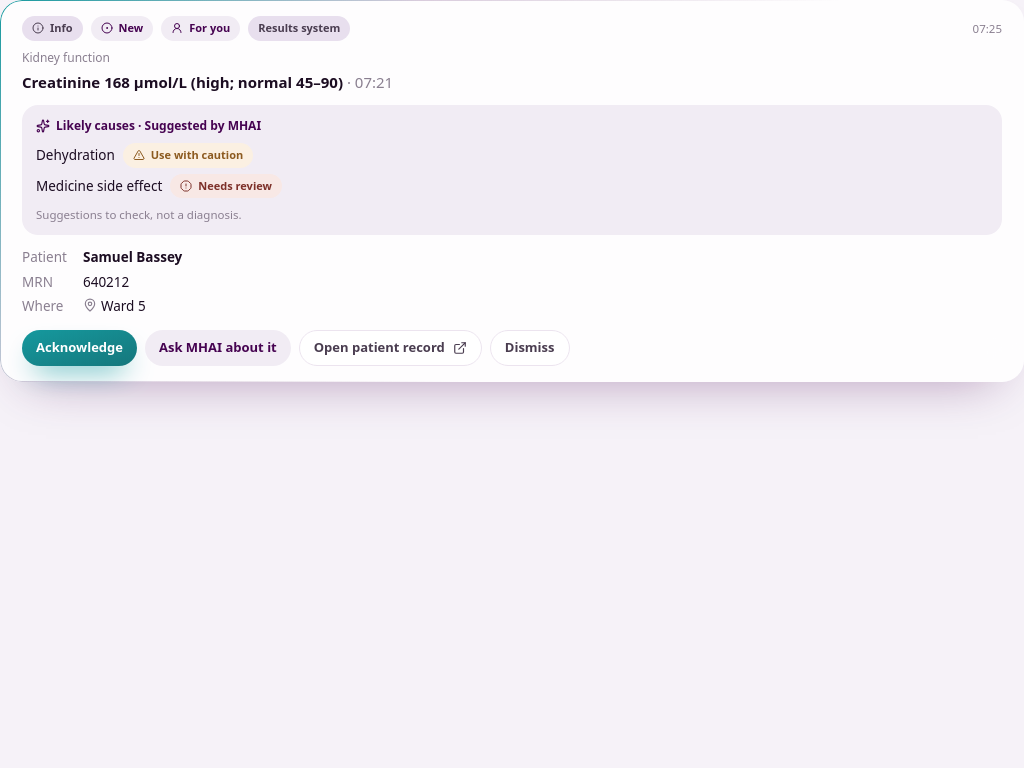
AlertCard › needs a reason to dismiss, then records it with the note
The width and height of the screenshot is (1024, 768).
Click the button "Dismiss" at (530,348), box [490,330,570,366]
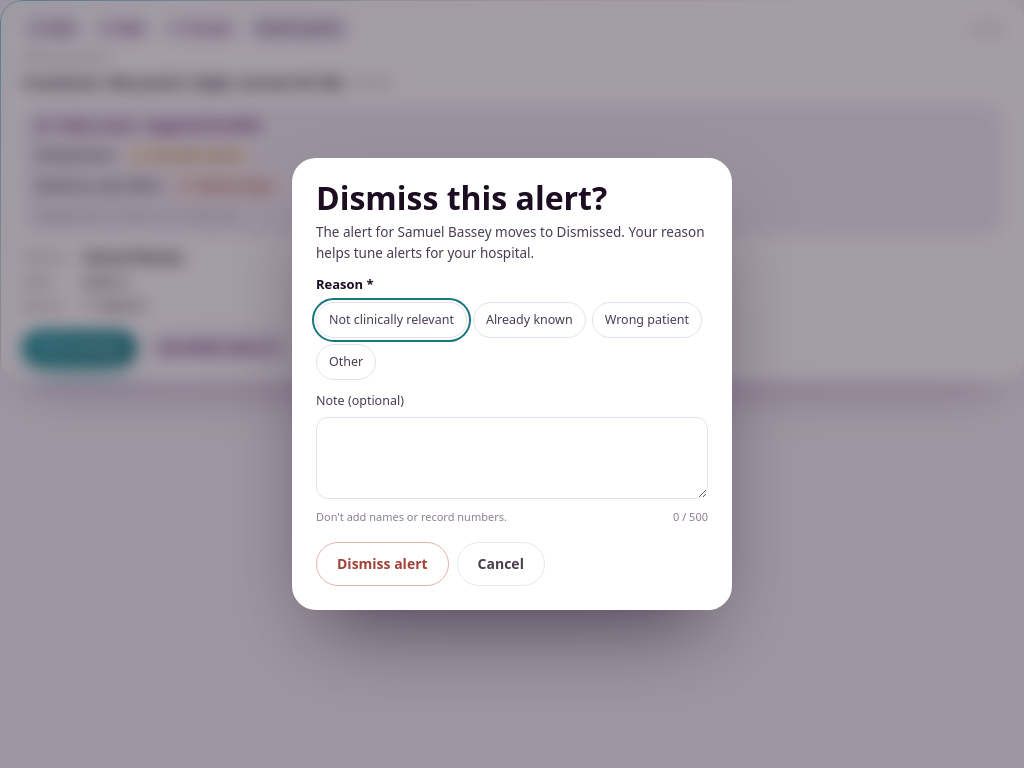
Check: the text "The alert for Samuel Bassey moves to Dismissed" is shown, box [316,222,708,263]
Click the button "Dismiss alert" at (382,564), box [316,542,449,586]
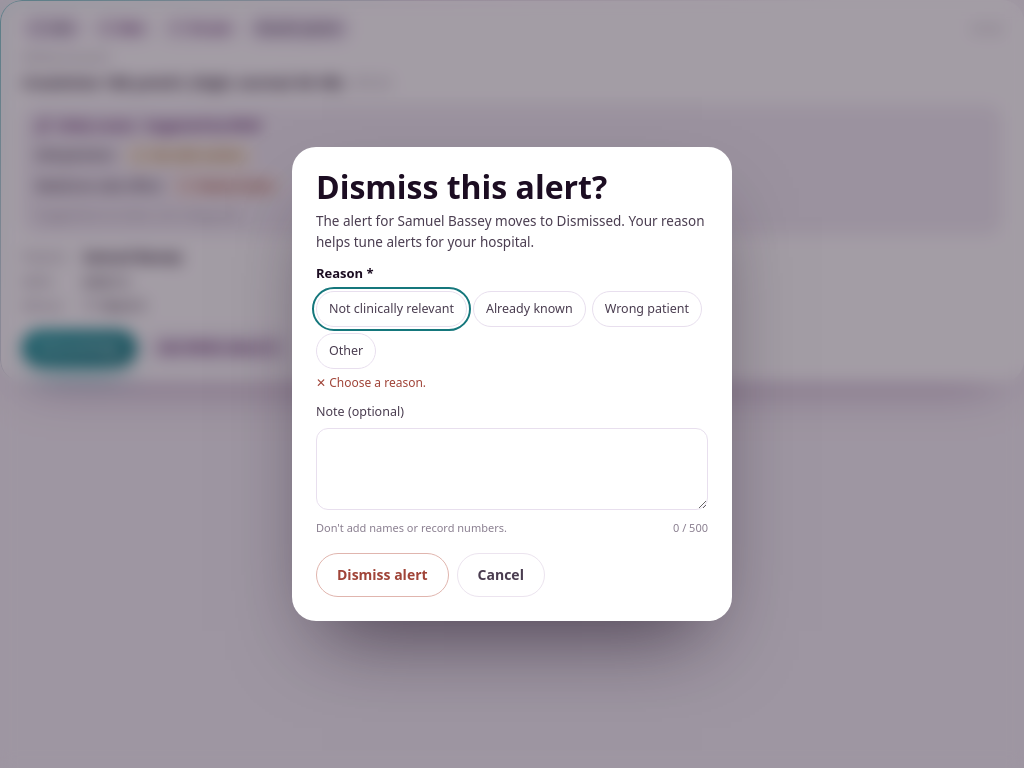
Check: the text "✕ Choose a reason." is shown, box [316,374,426,391]
Click the radio button labelled "Already known" at (529,309), box [473,291,586,327]
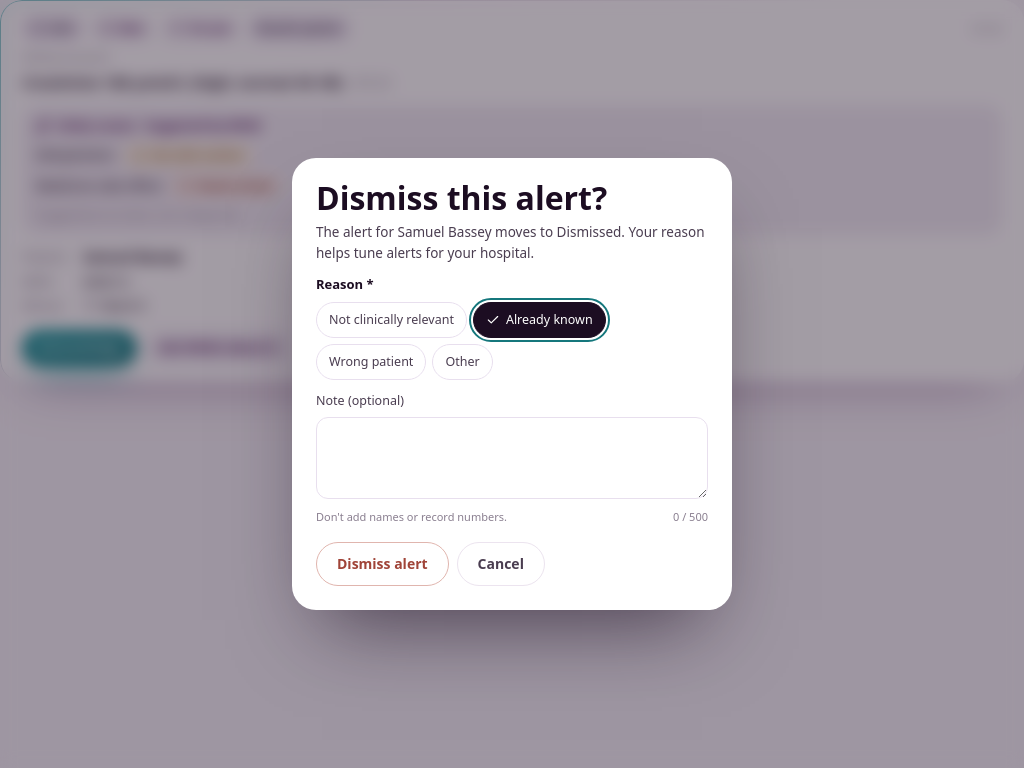
Type "Known kidney disease." into the text box labelled "Note (optional)" at (512,458), box [316,417,708,499]
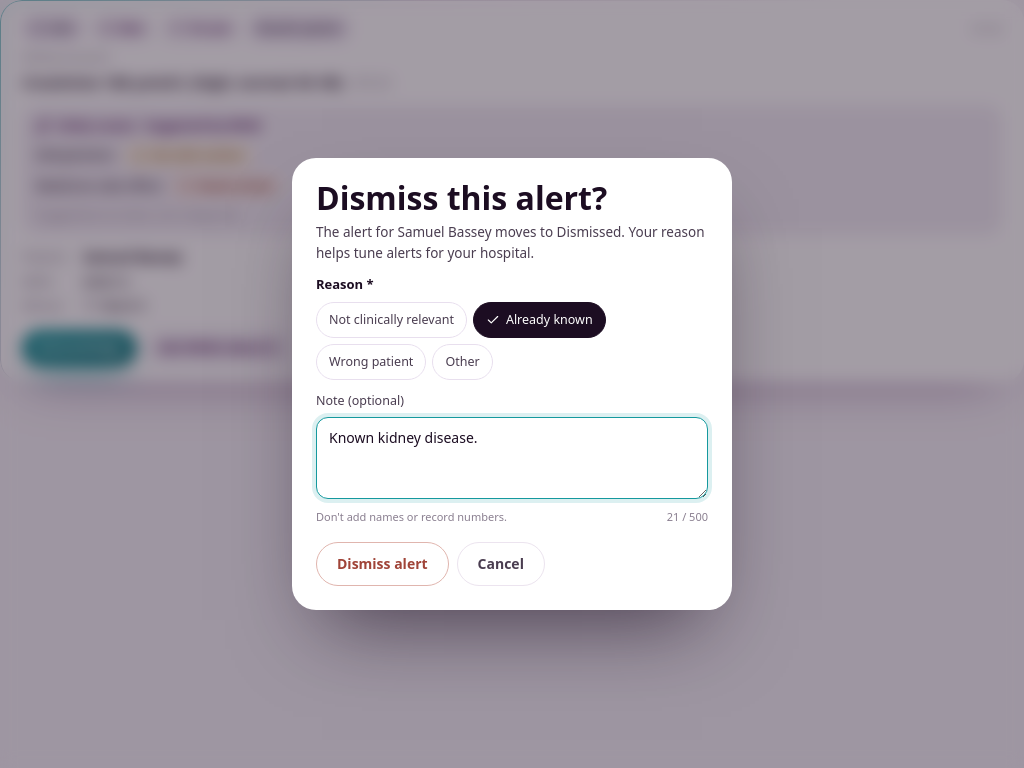
Click the button "Dismiss alert" at (382,564), box [316,542,449,586]
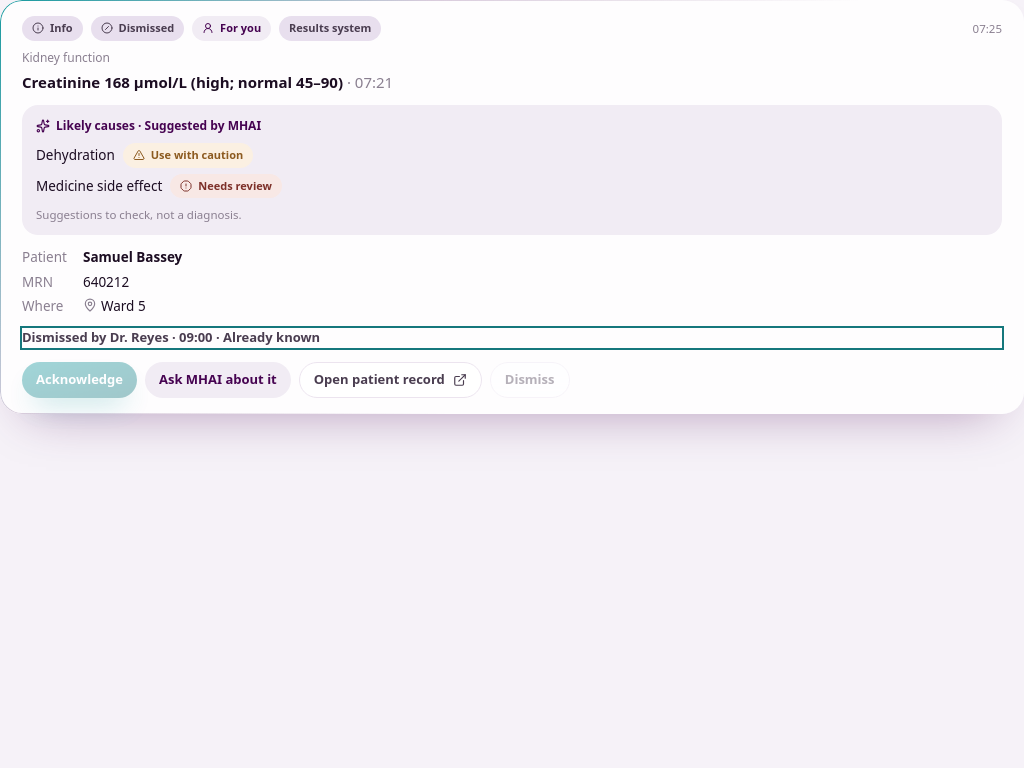
Check: the text "Dismissed by Dr. Reyes · 09:00 · Already known" is shown, box [22,328,320,346]
Check: the button "Dismiss alert" is gone
